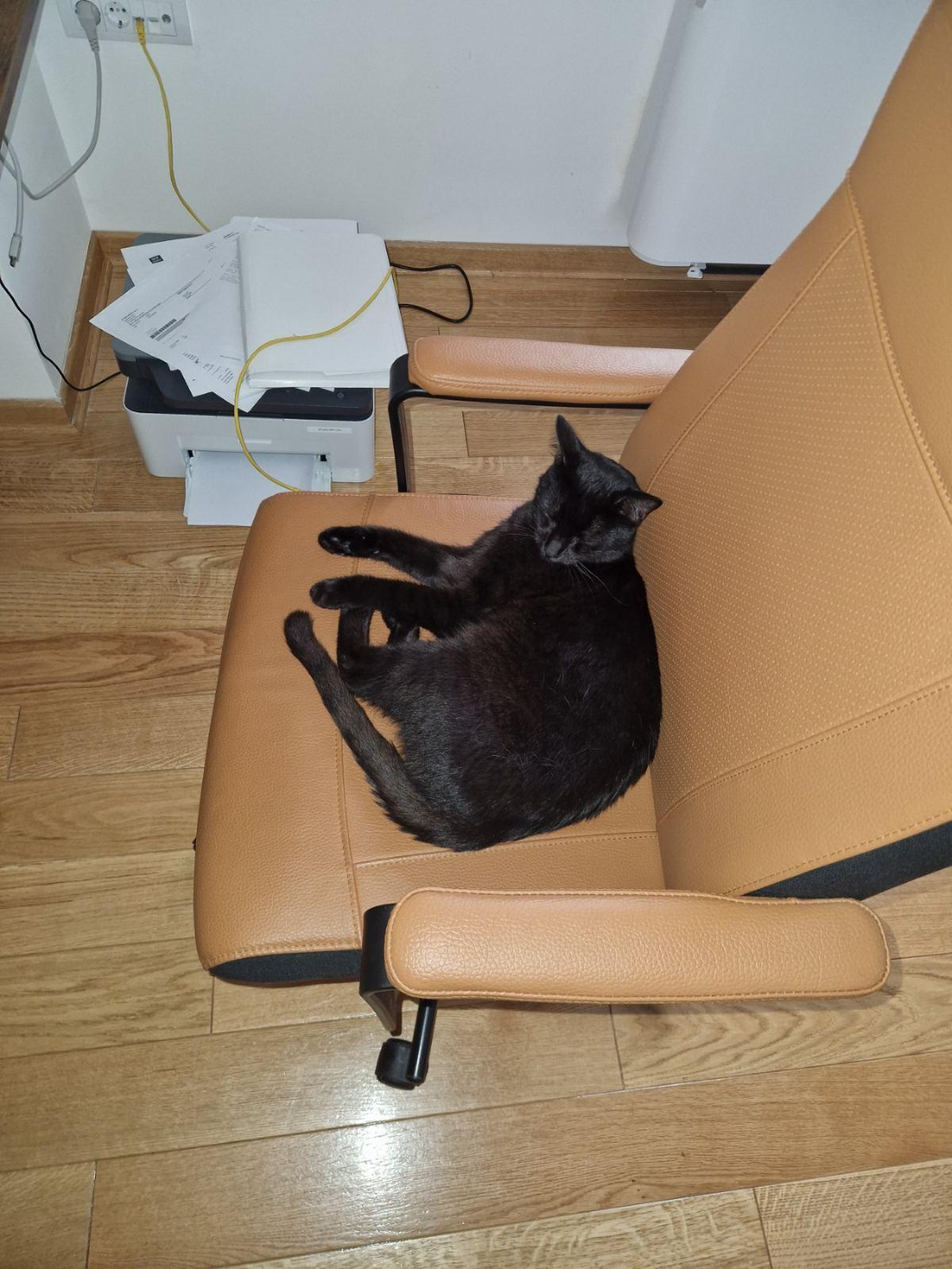macka: (280, 411, 665, 852)
